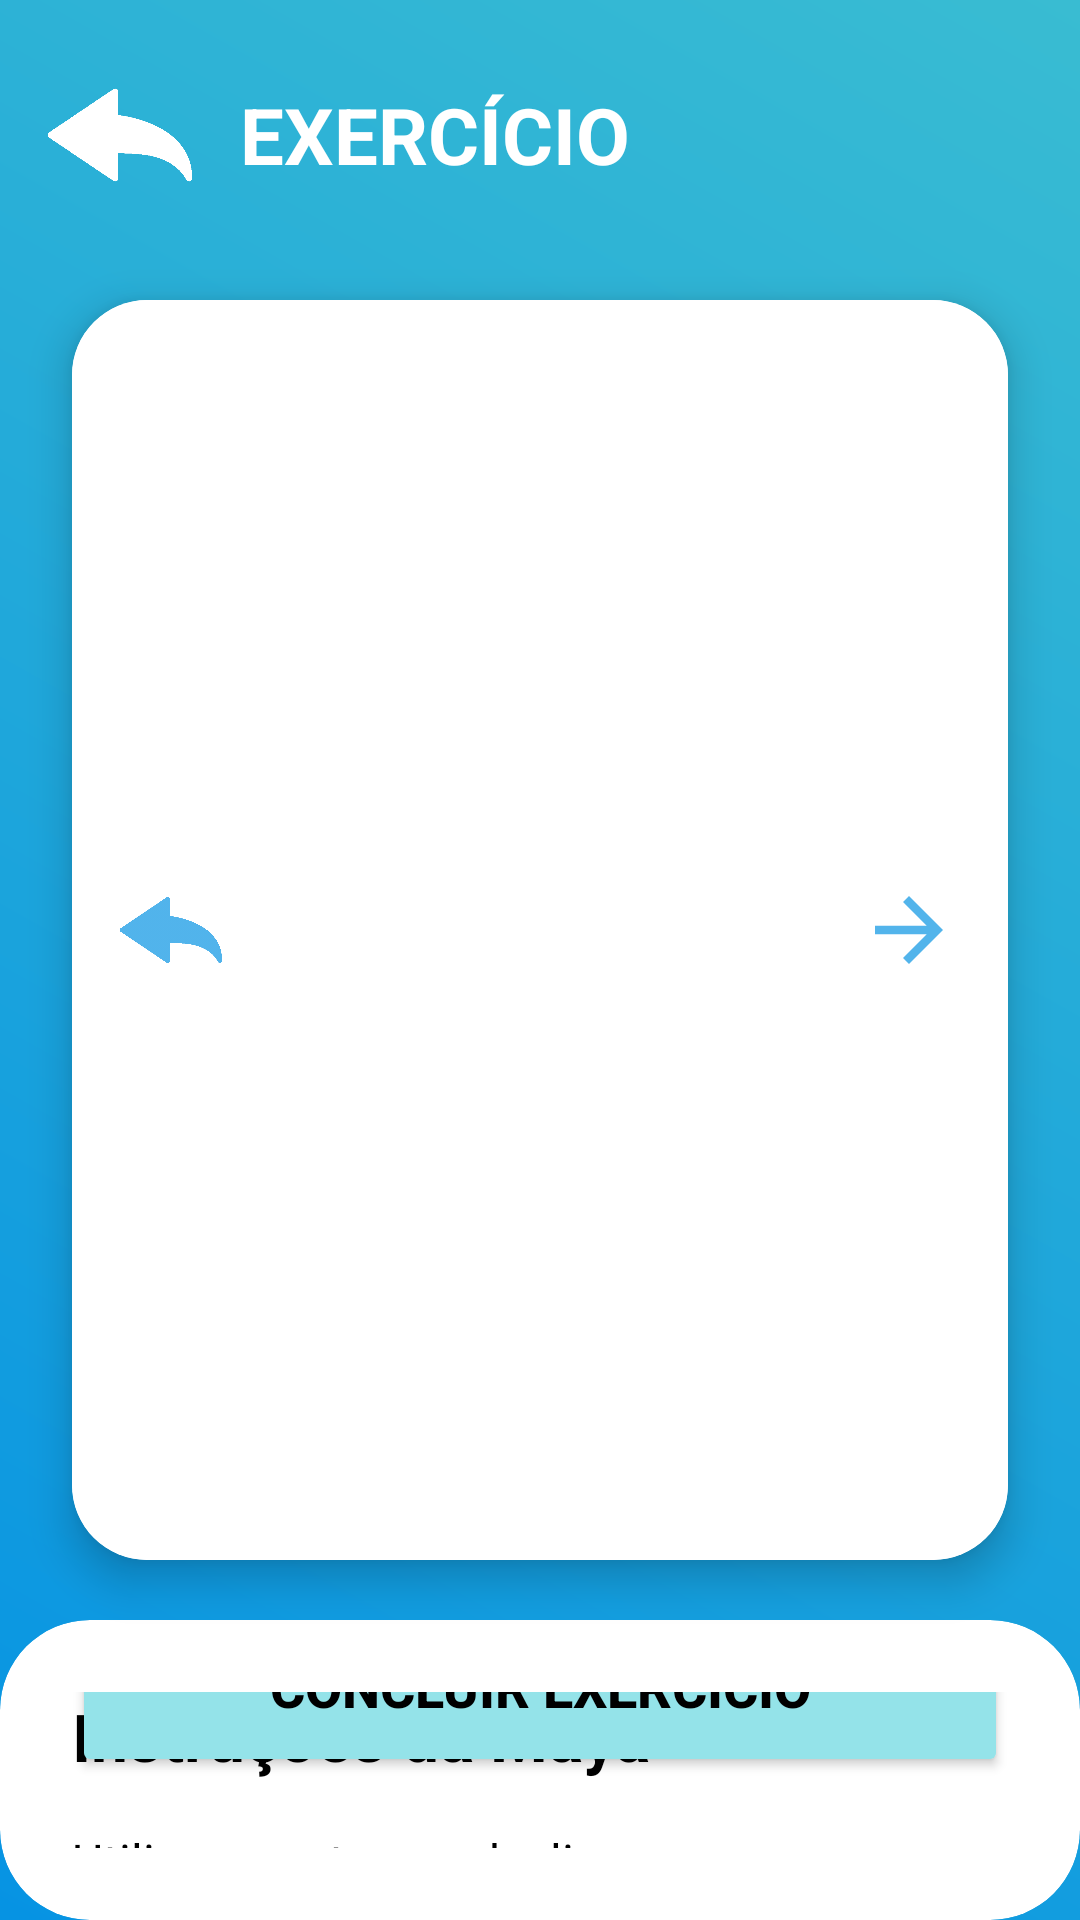

Icon bounding boxes for this 1080 x 1920 phone screenshot, format region(x1, y1, x2, y2):
next: region(875, 896, 943, 964)
voltar: region(48, 89, 192, 182), region(120, 897, 222, 963)
